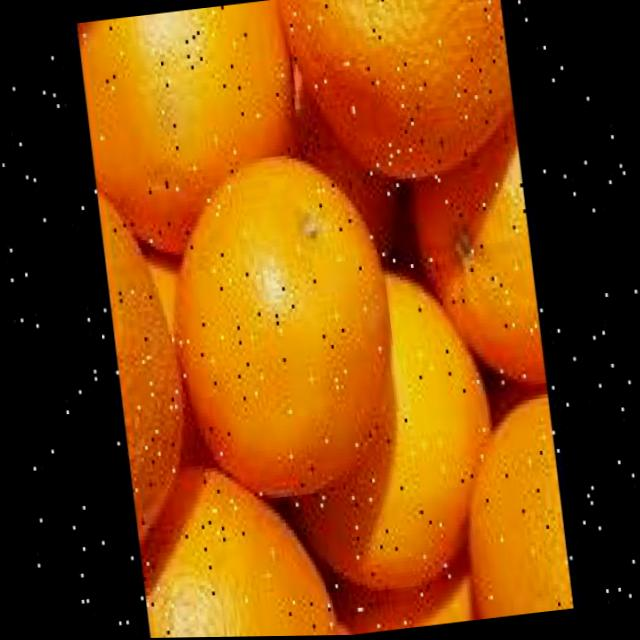orange: (156, 136, 418, 511), (262, 266, 513, 615), (79, 0, 320, 268), (282, 0, 529, 210), (397, 127, 558, 401), (125, 444, 344, 639), (92, 177, 195, 555), (445, 394, 570, 621)
